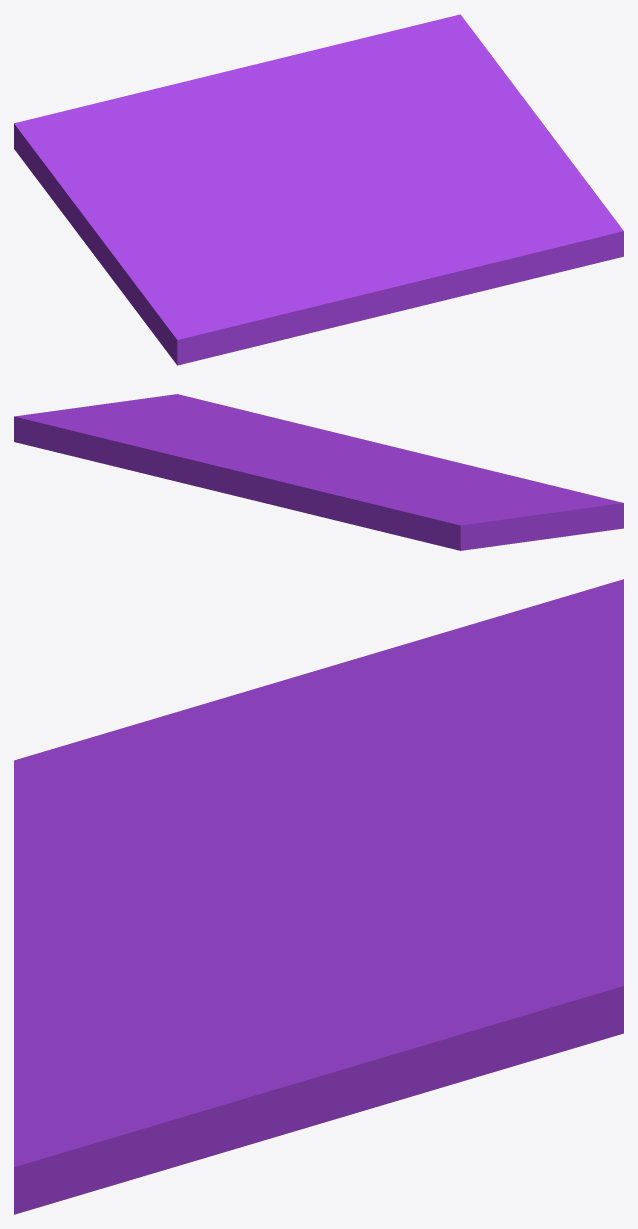
File: Window_143_chunks.fbx
The picture shows the model from 3 angles, top to bottom: view 1: azimuth 30°, elevation 25°; view 2: azimuth 150°, elevation 25°; view 3: azimuth 270°, elevation 25°; orthographic projection. The views are drawn at different scales.
Parts seen in each view (by area): view 1: Window_143_2, Window_143_3, Window_143_0, Window_143_1; view 2: Window_143_0, Window_143_3, Window_143_2, Window_143_1; view 3: Window_143_3, Window_143_2, Window_143_0, Window_143_1.
Boxes of the visible parts, box(x1,y1,x2,y2) form: Window_143_2: box(87, 175, 418, 365); Window_143_3: box(259, 14, 572, 189); Window_143_0: box(14, 63, 307, 252); Window_143_1: box(344, 163, 623, 312); Window_143_0: box(196, 462, 539, 550); Window_143_3: box(14, 401, 323, 486); Window_143_2: box(317, 444, 623, 539); Window_143_1: box(127, 394, 380, 454); Window_143_3: box(205, 802, 623, 1135); Window_143_2: box(14, 660, 350, 980); Window_143_0: box(330, 579, 623, 861); Window_143_1: box(14, 898, 280, 1214).
Bounding box in the file's own units: 1838 × 482 × 1165.
